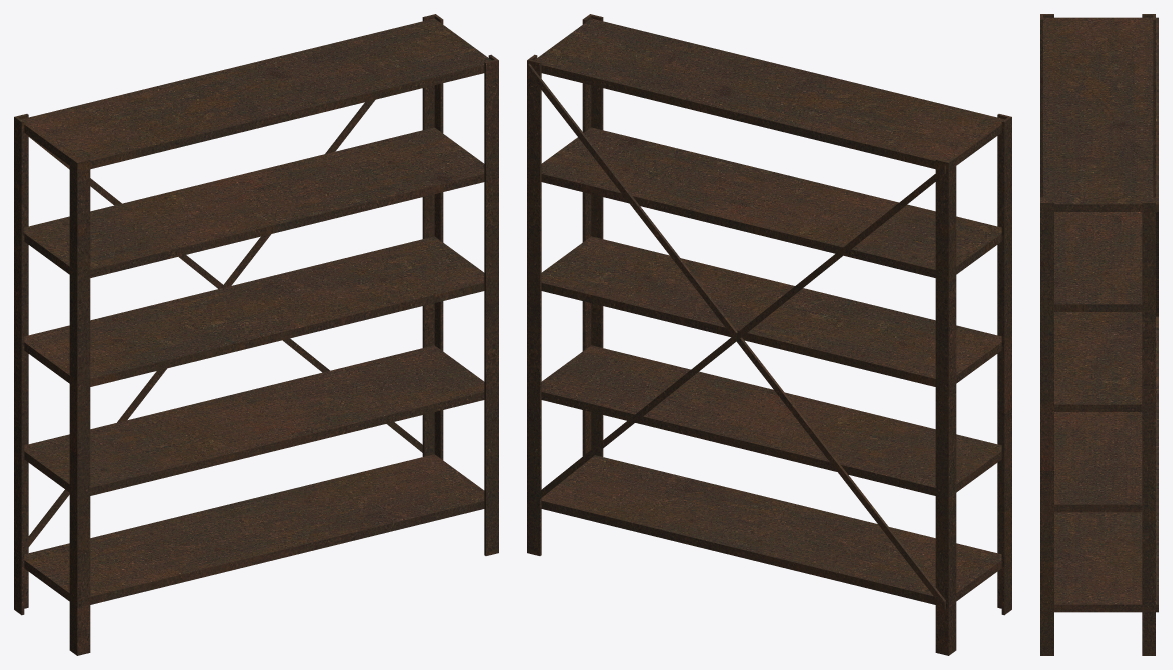
The model's file is shelf_mx_3.glb.
The picture shows the model from 3 angles, left to right: view 1: azimuth 30°, elevation 25°; view 2: azimuth 150°, elevation 25°; view 3: azimuth 270°, elevation 25°; orthographic projection. The views are drawn at different scales.
Parts seen in each view (by area): view 1: shelf_mx_3; view 2: shelf_mx_3; view 3: shelf_mx_3.
Boxes of the visible parts, x1,y1,x2,y2 form: shelf_mx_3: (14,14,498,655); shelf_mx_3: (527,14,1011,655); shelf_mx_3: (1040,14,1158,655).
Bounding box in the file's own units: 1.62 × 1.81 × 0.43.
1 material, 1 textured.
